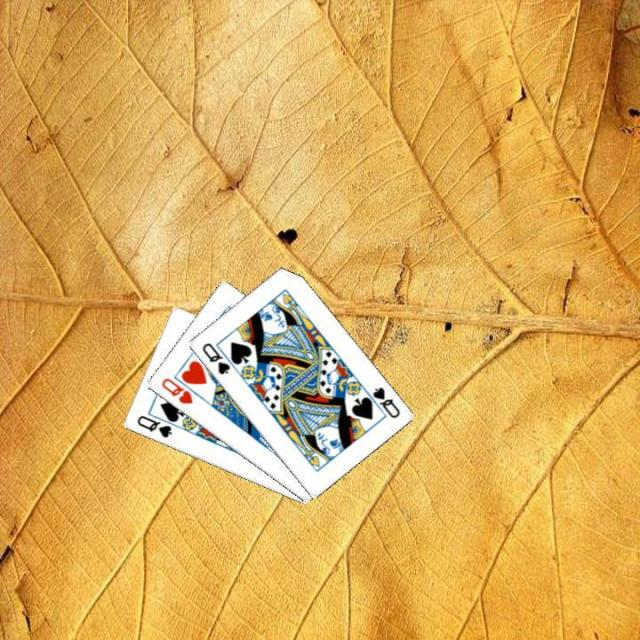QH: (157, 374, 194, 406)
QS: (368, 383, 402, 421), (198, 339, 232, 376), (132, 412, 174, 440)
